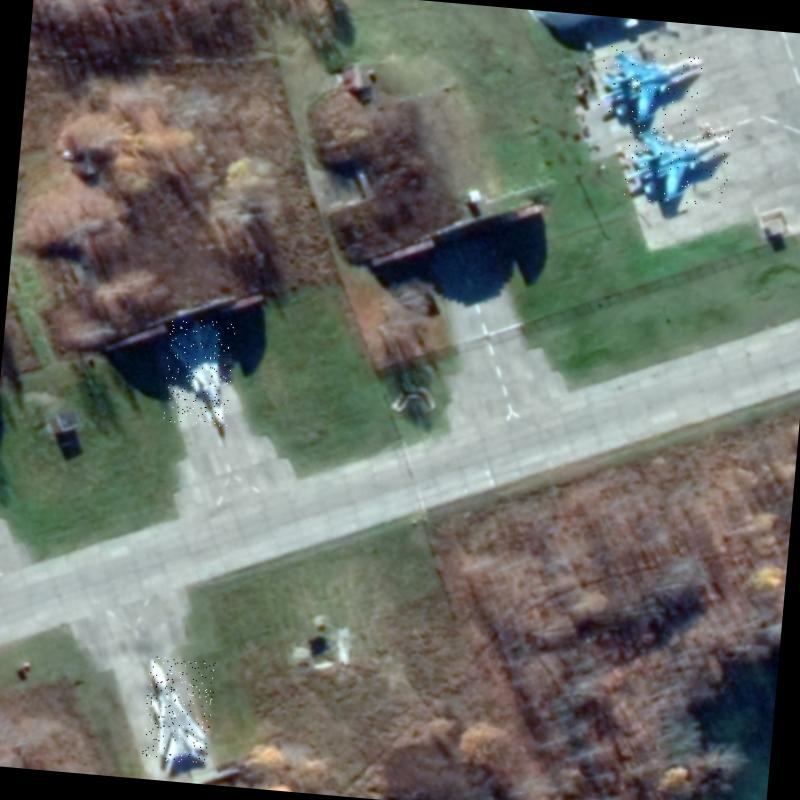A19: (622, 121, 732, 208), (598, 44, 708, 130)
A20: (161, 317, 236, 427), (142, 656, 216, 764)
